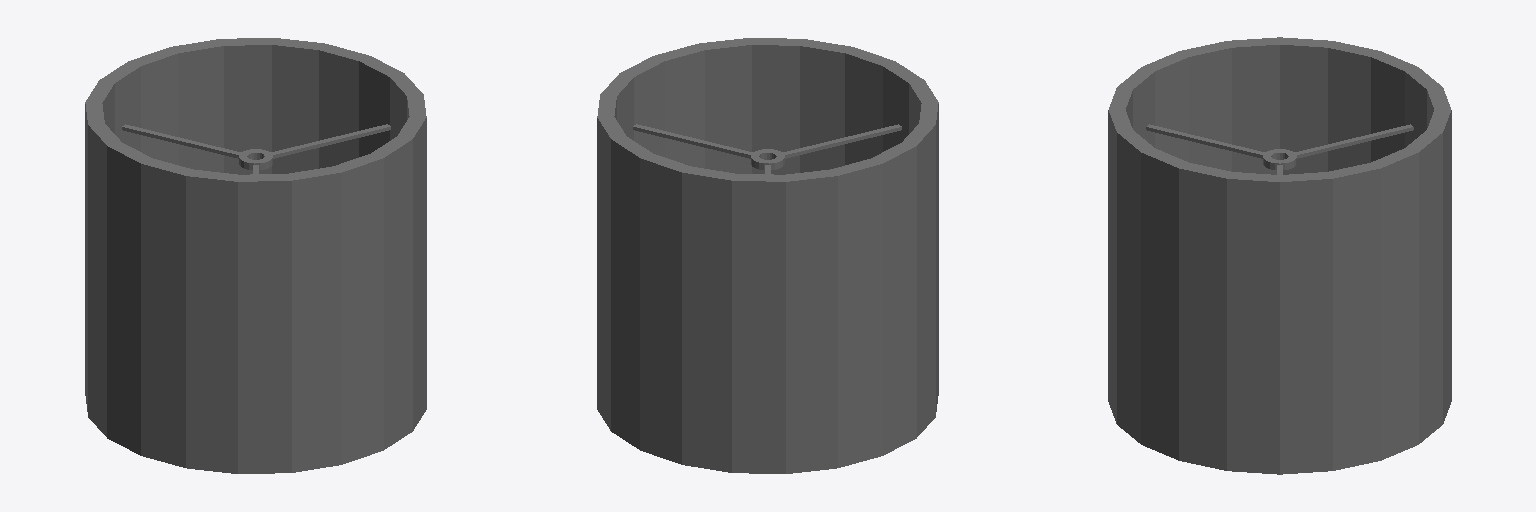
The model's file is lamp_lampShade_2.obj.
The picture shows the model from 3 angles: view 1: azimuth 30°, elevation 25°; view 2: azimuth 150°, elevation 25°; view 3: azimuth 270°, elevation 25°; orthographic projection.
Size of the model in its own units: 3.07 by 2.88 by 3.07.